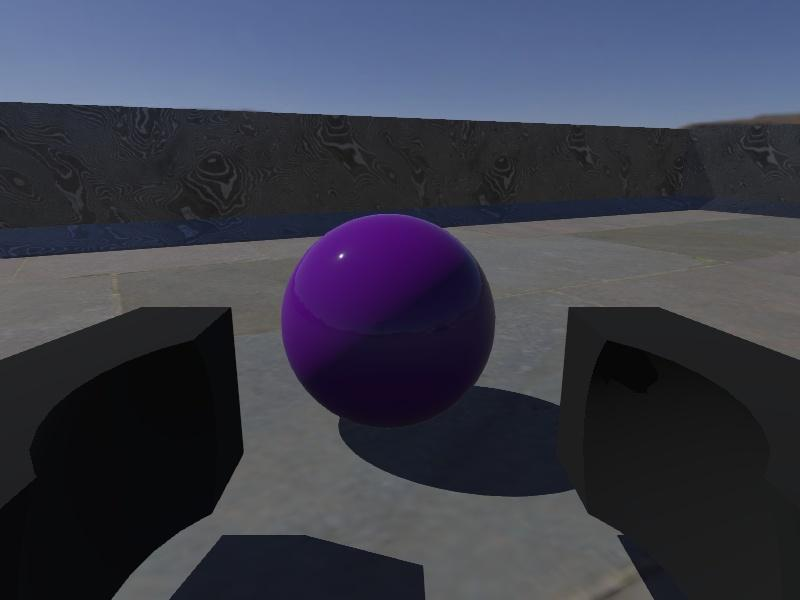violet ball: (281, 215, 496, 429)
